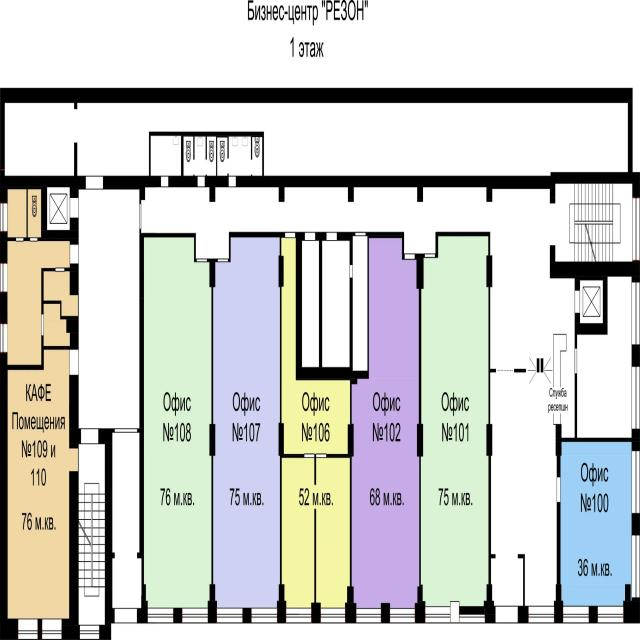Bathrooms: (151, 137, 181, 176), (229, 137, 251, 176), (28, 191, 41, 237), (195, 137, 205, 176), (252, 137, 262, 176), (217, 138, 227, 175), (184, 137, 193, 176), (207, 137, 216, 176)
Corridors: (141, 188, 575, 438), (77, 103, 628, 176), (490, 373, 557, 605), (79, 189, 139, 429), (4, 103, 74, 176), (112, 434, 139, 552), (491, 558, 523, 606), (44, 271, 78, 315), (112, 559, 141, 607), (555, 184, 569, 262), (44, 304, 70, 345), (8, 190, 26, 236)
Doors: (495, 606, 518, 623), (115, 608, 137, 623), (81, 429, 98, 445), (69, 349, 79, 375), (86, 176, 103, 189), (550, 203, 555, 245), (70, 197, 79, 218), (70, 244, 79, 264), (575, 290, 580, 313), (115, 553, 137, 558), (326, 232, 337, 241), (74, 109, 77, 142), (161, 175, 169, 187), (497, 368, 513, 374), (114, 429, 137, 433), (305, 232, 315, 241), (229, 175, 236, 187), (557, 477, 560, 503), (198, 177, 205, 187), (495, 555, 518, 558), (41, 314, 44, 336), (285, 232, 295, 238), (405, 253, 414, 259), (139, 204, 141, 229), (575, 349, 577, 374), (304, 453, 314, 458), (316, 453, 326, 458), (314, 485, 316, 509), (217, 258, 228, 262), (355, 232, 366, 236), (16, 238, 24, 243), (30, 237, 38, 242), (197, 258, 207, 262), (425, 254, 435, 258), (350, 265, 353, 278), (55, 268, 64, 272), (193, 158, 195, 175), (205, 159, 207, 175), (228, 157, 229, 174), (251, 158, 252, 175)
LBwalls: (0, 88, 633, 175), (295, 231, 369, 384), (236, 176, 550, 204), (550, 245, 640, 335), (7, 175, 86, 245), (0, 353, 19, 640), (137, 232, 148, 623), (98, 428, 115, 640), (62, 470, 80, 640), (550, 171, 640, 204), (103, 176, 161, 200), (69, 375, 81, 449), (623, 584, 640, 624), (205, 176, 229, 202), (484, 584, 496, 623), (345, 586, 357, 624), (66, 316, 79, 349), (277, 583, 287, 623), (415, 584, 425, 624), (208, 583, 217, 624), (554, 584, 563, 623), (169, 176, 198, 187), (70, 264, 78, 296), (0, 293, 8, 323), (0, 232, 7, 263), (450, 601, 459, 624), (416, 260, 423, 289), (311, 603, 321, 623), (348, 424, 354, 457), (417, 424, 423, 457), (631, 344, 640, 366), (631, 429, 640, 451), (631, 513, 640, 535), (1, 175, 8, 203), (209, 424, 215, 456), (486, 424, 492, 456), (486, 256, 492, 288), (381, 603, 390, 624), (518, 606, 529, 623), (209, 258, 215, 287), (279, 423, 284, 456), (556, 424, 561, 457), (589, 605, 598, 623), (279, 256, 284, 287), (173, 607, 182, 624), (243, 608, 252, 624)
Offices: (144, 237, 211, 608), (213, 238, 280, 608), (352, 238, 419, 608), (421, 236, 488, 606), (8, 350, 78, 618), (281, 237, 350, 454), (561, 443, 632, 606), (577, 276, 632, 438), (8, 242, 70, 365), (316, 459, 350, 608), (282, 458, 314, 607), (323, 242, 349, 366), (302, 241, 319, 367), (353, 236, 367, 370)
Stairs: (555, 184, 632, 262), (569, 184, 632, 260), (79, 444, 105, 625)
Walls: (366, 231, 404, 371), (149, 131, 264, 176), (561, 374, 632, 442), (280, 454, 304, 584), (7, 336, 70, 370), (228, 232, 285, 262), (141, 233, 197, 263), (315, 232, 327, 367), (41, 268, 66, 319), (553, 334, 566, 424), (488, 287, 496, 424), (489, 456, 496, 584), (337, 232, 356, 265), (23, 189, 30, 242), (518, 554, 525, 605), (349, 278, 353, 367), (557, 502, 561, 585), (211, 287, 213, 424), (419, 288, 421, 424), (280, 288, 282, 422), (350, 454, 352, 587), (419, 457, 421, 586), (211, 456, 213, 584), (314, 508, 316, 603), (74, 142, 77, 176), (557, 456, 561, 477), (326, 454, 352, 457), (350, 384, 352, 423), (314, 454, 316, 486), (514, 369, 527, 373), (415, 254, 424, 259), (64, 267, 70, 273), (8, 237, 16, 241), (575, 335, 577, 348), (78, 449, 79, 473), (78, 295, 79, 317), (74, 102, 77, 109), (137, 552, 140, 559), (112, 428, 115, 434), (112, 552, 115, 558), (137, 428, 140, 433), (215, 258, 218, 262), (139, 199, 141, 204), (207, 258, 209, 263), (38, 237, 41, 240), (140, 228, 141, 234)
Windows: (631, 535, 640, 597), (632, 366, 640, 428), (598, 606, 624, 624), (528, 605, 554, 623), (633, 197, 640, 261), (563, 606, 589, 623), (632, 282, 639, 345), (632, 450, 639, 513), (42, 618, 62, 640), (18, 618, 38, 640), (182, 608, 208, 624), (217, 608, 243, 624), (251, 607, 277, 623), (286, 607, 312, 623), (320, 607, 346, 623), (356, 607, 381, 623), (390, 607, 415, 623), (425, 607, 450, 623), (148, 607, 173, 623), (80, 624, 99, 640), (0, 323, 7, 353), (459, 615, 485, 623), (1, 203, 7, 232), (1, 263, 7, 292)
